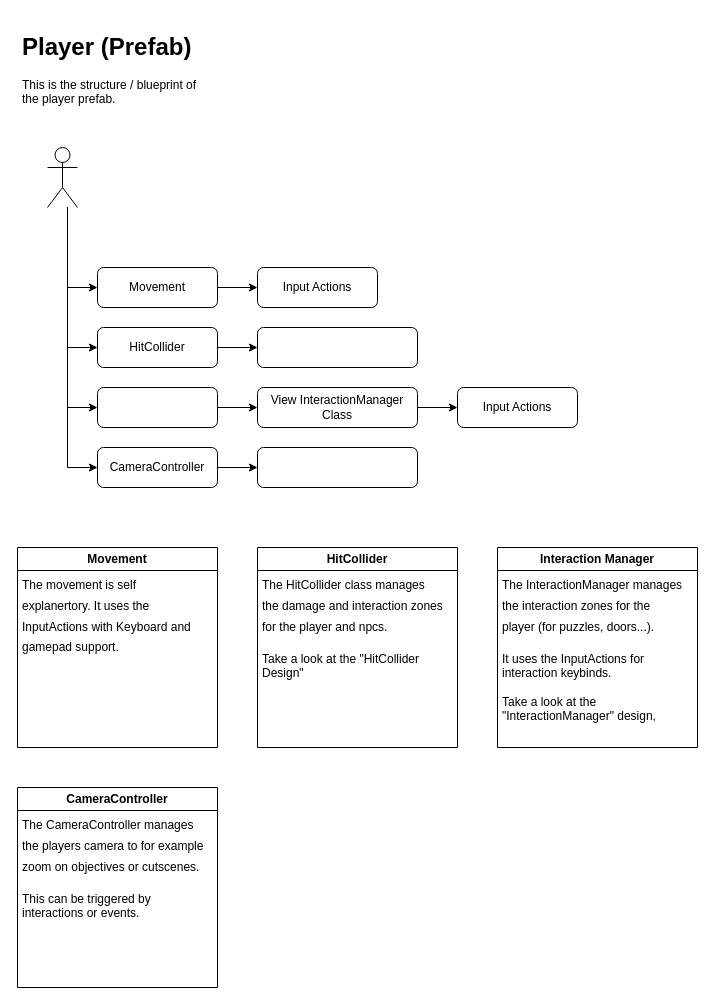
The diagram is 715 pixels wide and 1005 high, and some of its shapes have lost their labels. Each missing label, with the box of its shape:
InteractionManager: (96, 386, 218, 428)
Player (root): (46, 146, 78, 208)
View CameraController Class: (256, 446, 418, 488)
View HitCollider Class: (256, 326, 418, 368)
